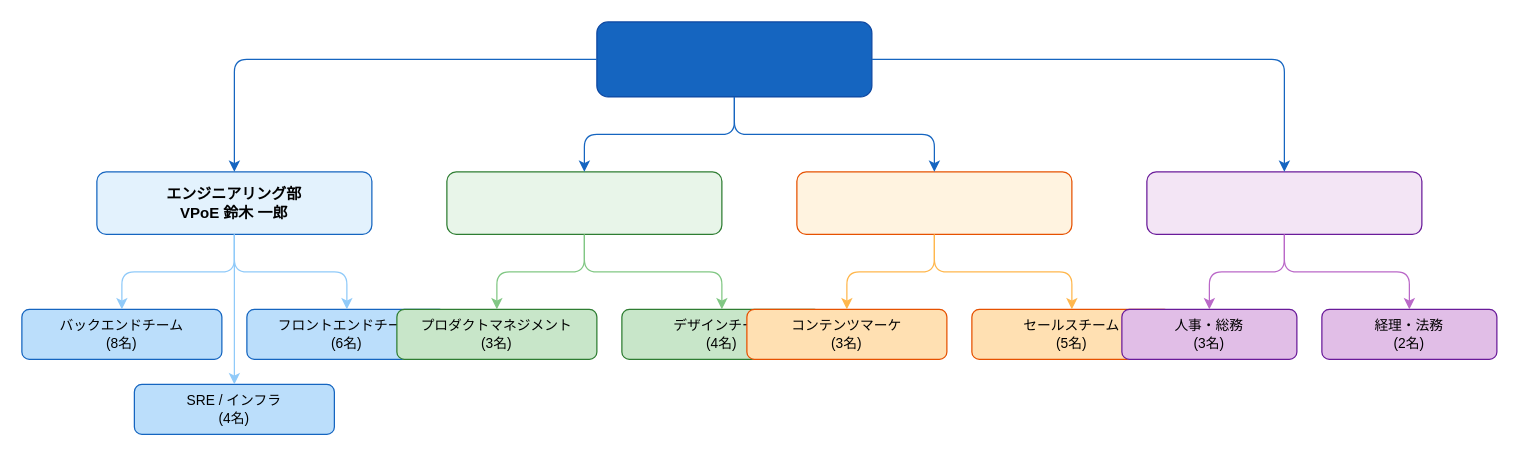
Image size: 1519x456. Some labels were removed from this diagram. The shapes that lost their labels are listed below. From the top down, each one's centre as x and y in pixels, then its label:
At point (734, 59): "代表取締役 CEO 田中 太郎".
At point (584, 202): "プロダクト部 CPO 佐藤 花子".
At point (934, 202): "マーケティング部 CMO 高橋 次郎".
At point (1284, 202): "コーポレート部 CFO 渡辺 美咲".
